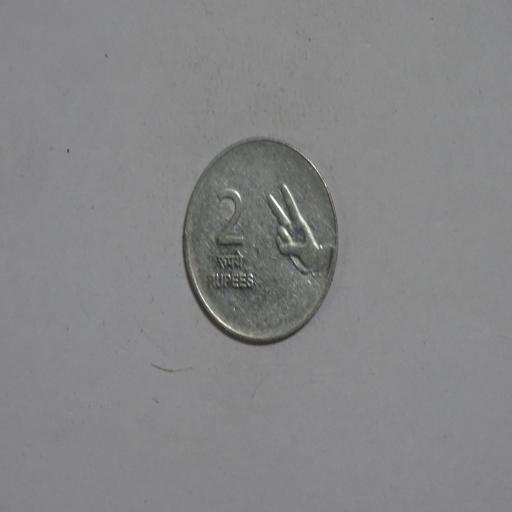rupee2: (178, 136, 340, 345)
